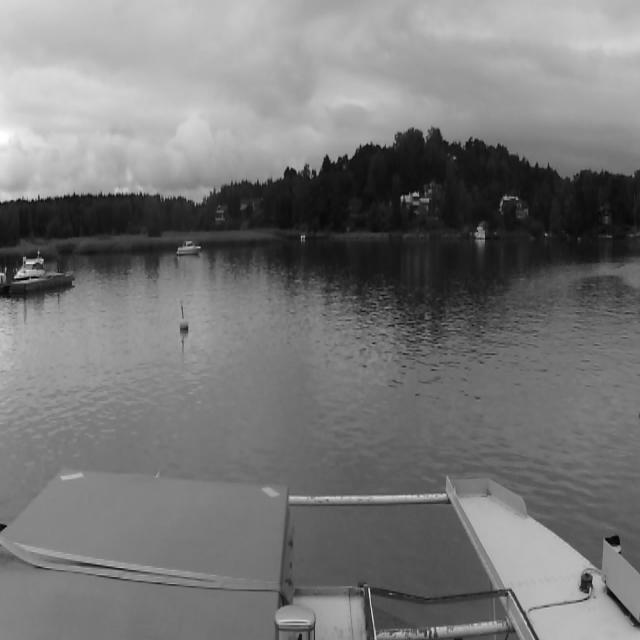buoy: (173, 274, 195, 343), (179, 300, 189, 332)
ship: (13, 250, 46, 284), (176, 240, 202, 257), (473, 226, 485, 240)
